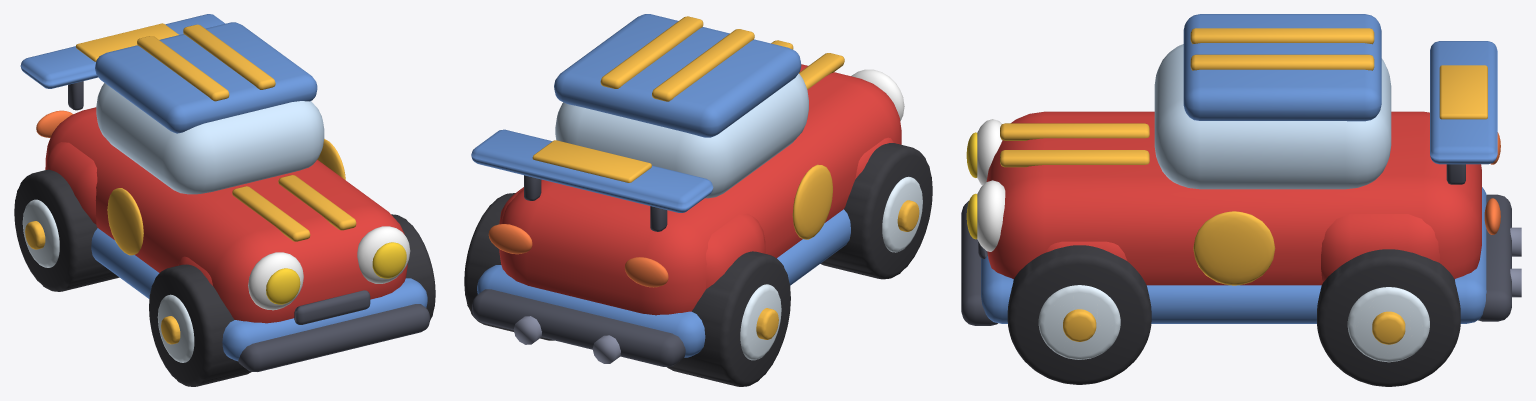
Rendered from toy-comet.glb.
The picture shows the model from 3 angles, left to right: view 1: azimuth 30°, elevation 25°; view 2: azimuth 150°, elevation 25°; view 3: azimuth 270°, elevation 25°; orthographic projection. The views are drawn at different scales.
Parts seen in each view (by area): view 1: body, wheel-front-right, wheel-back-right, wheel-front-left; view 2: body, wheel-back-right, wheel-front-right, wheel-back-left; view 3: body, wheel-front-left, wheel-back-left.
Part boxes in pixels (x1=…): body: x1=20, y1=14, x2=430, y2=371; wheel-front-right: x1=149, y1=264, x2=251, y2=386; wheel-back-right: x1=14, y1=169, x2=119, y2=291; wheel-front-left: x1=391, y1=214, x2=435, y2=319; body: x1=471, y1=14, x2=904, y2=366; wheel-back-right: x1=667, y1=251, x2=790, y2=386; wheel-front-right: x1=820, y1=143, x2=932, y2=279; wheel-back-left: x1=464, y1=193, x2=554, y2=340; body: x1=961, y1=14, x2=1521, y2=325; wheel-front-left: x1=1007, y1=245, x2=1151, y2=384; wheel-back-left: x1=1317, y1=249, x2=1460, y2=386.
Bounding box in the file's own units: 1.47 × 1.26 × 2.32.
1 material, 1 textured.
